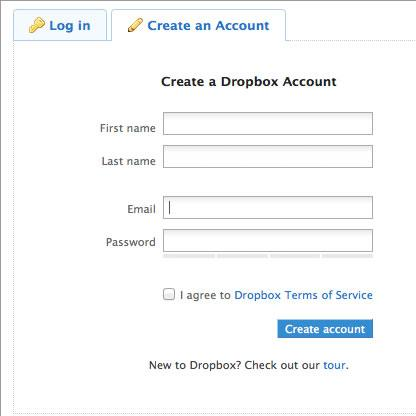button: (277, 319, 373, 339)
field: (160, 144, 374, 169), (161, 195, 375, 219), (161, 228, 374, 252), (161, 112, 374, 135)
